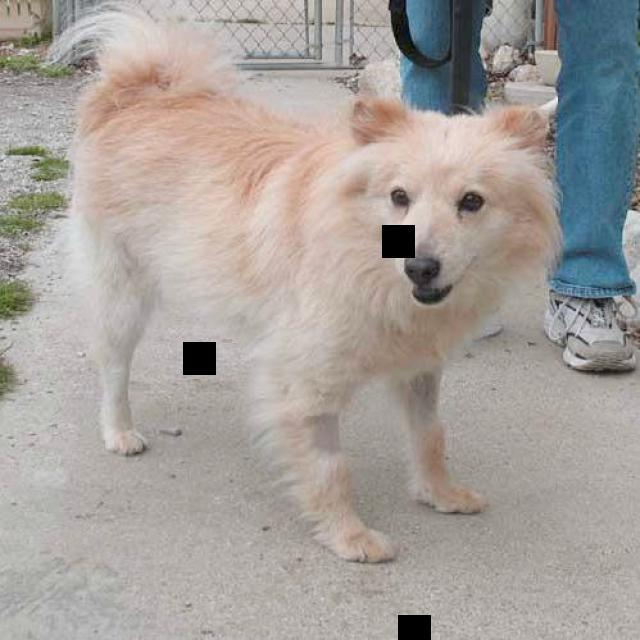adult_dog: (47, 7, 566, 564)
non-dog: (385, 0, 640, 373)
